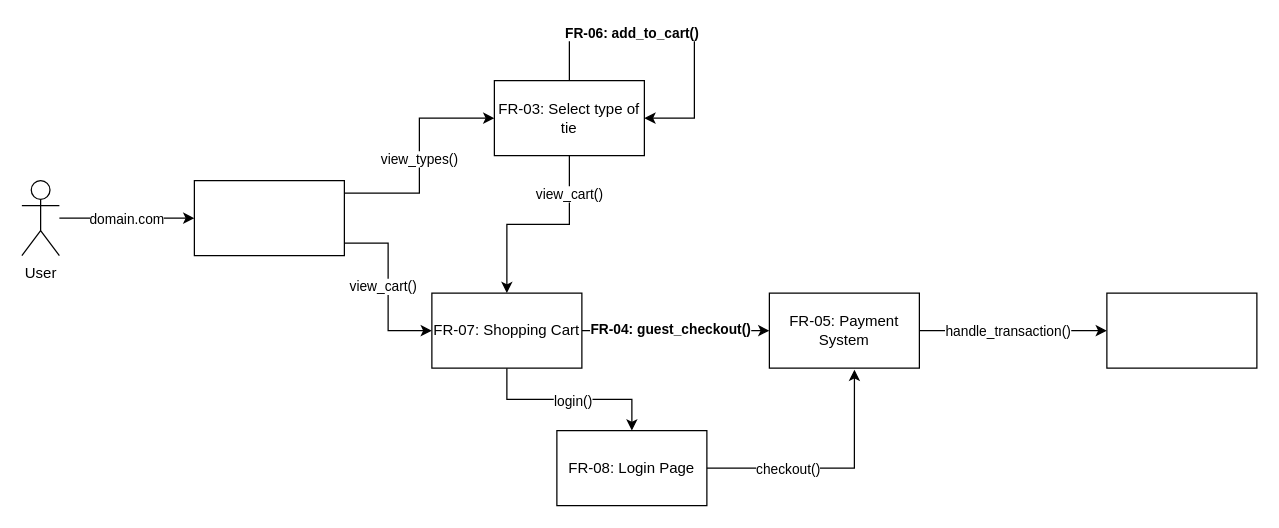
Image size: 1279x528. Some labels were removed from this diagram. The shapes that lost their labels are listed below. From the top down, each one's box as (x1, y1, x2, y2) in pixels, then its label:
(193, 179, 344, 256): FR-01: See Products
(1106, 292, 1257, 368): FR-02: Buy Product
